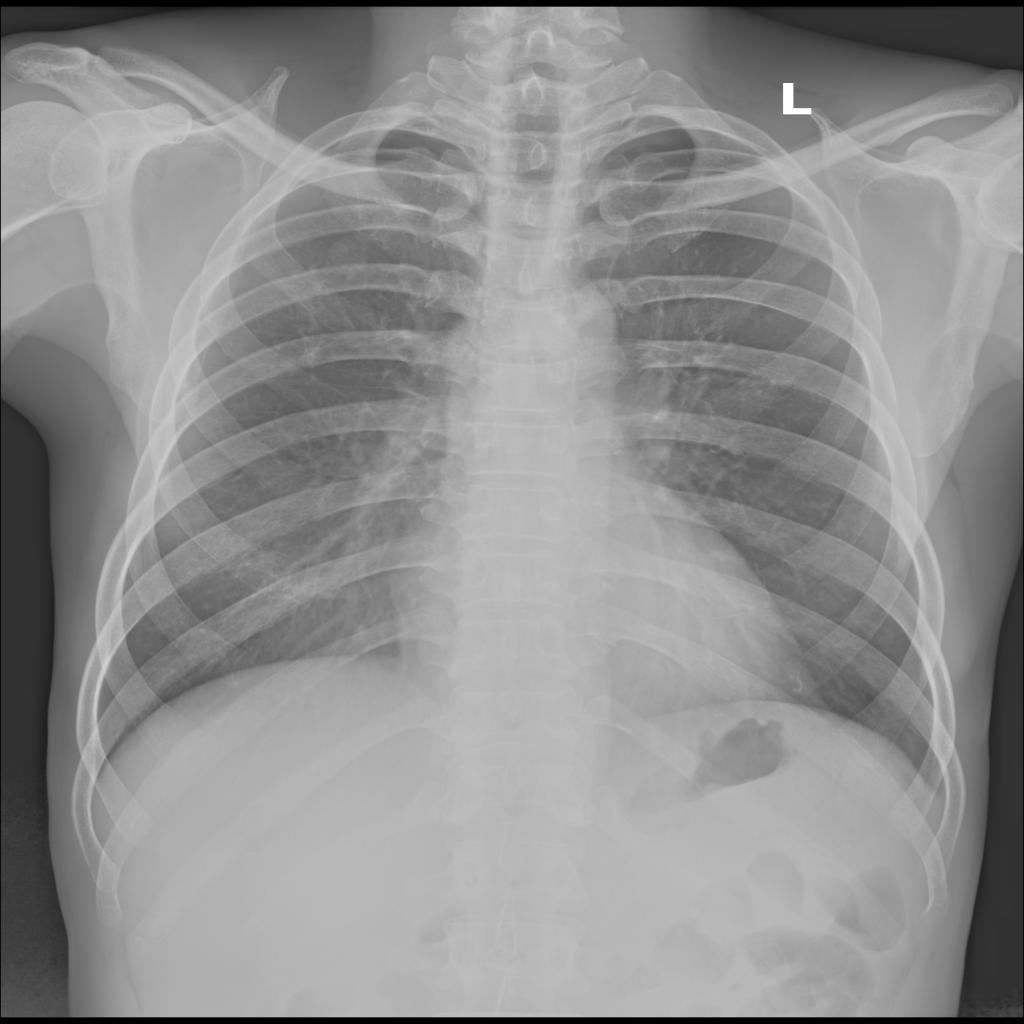Nodule: (325, 232, 373, 277)
